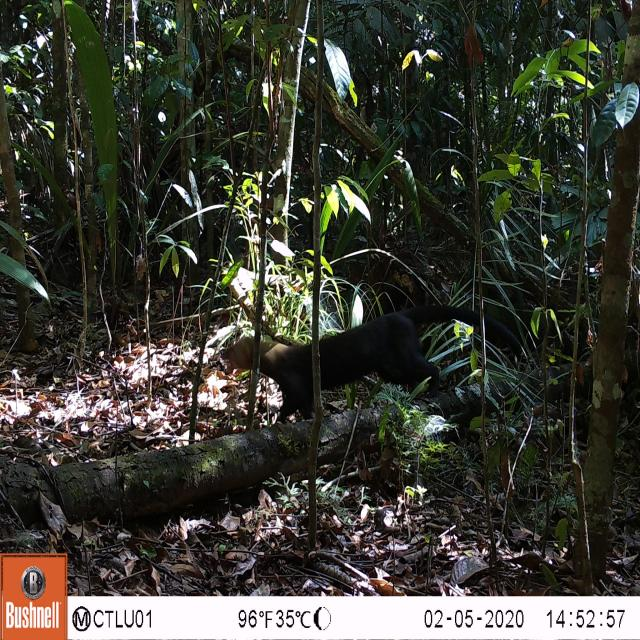Tayra: (214, 298, 466, 424)
